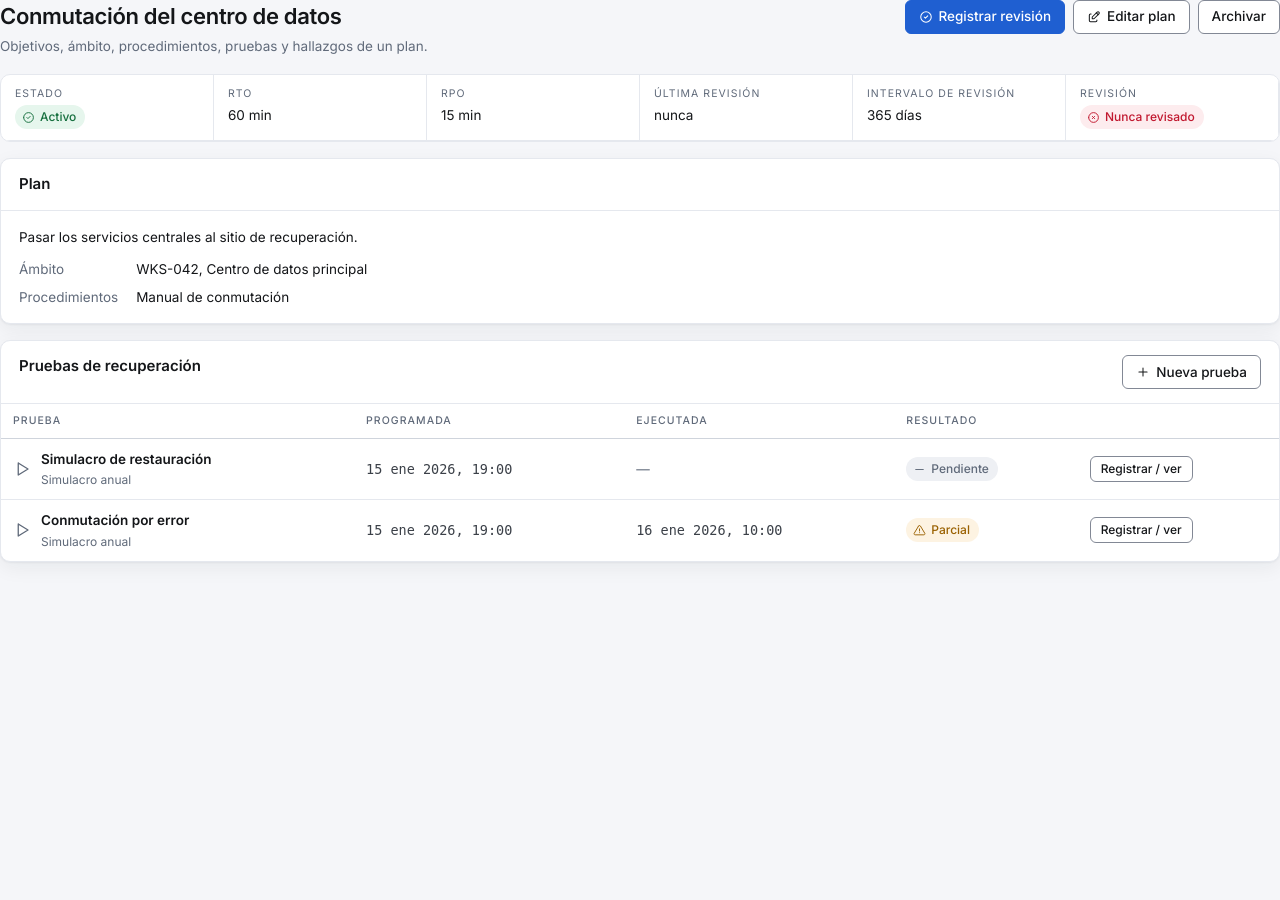
Test case: a plan's detail, in Spanish › words the New test dialog
Expected: the heading "Conmutación del centro de datos" is shown, top-left (0, 3), bottom-right (342, 29)
Click the button "Nueva prueba": (1192, 372) top-left (1122, 355), bottom-right (1261, 389)
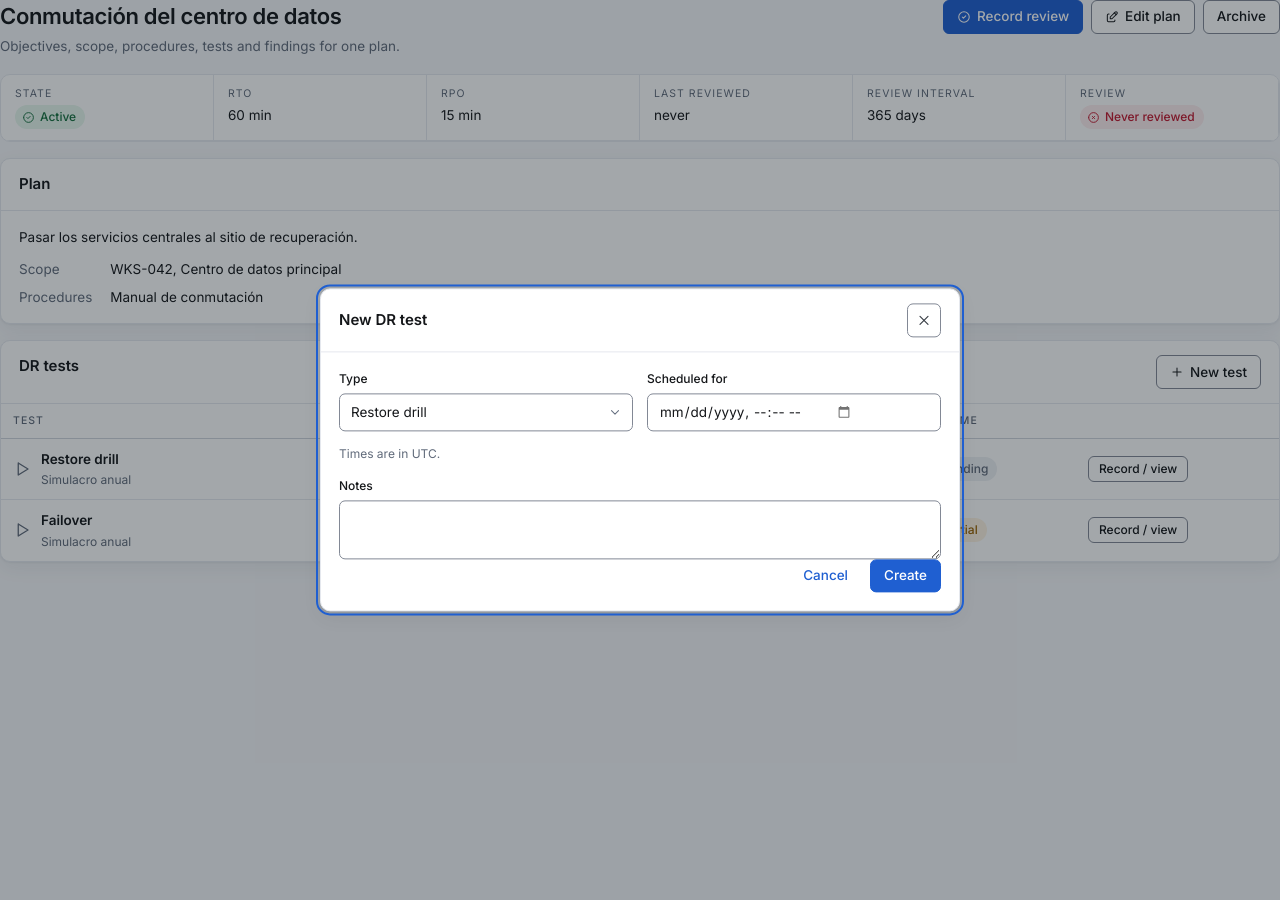
Now the text "Programada para" is shown, box top-left (647, 371), bottom-right (727, 386)
Now the text "Las horas están en UTC." is shown, box top-left (339, 447), bottom-right (440, 462)
Now the button named "Crear" is shown, box top-left (870, 559), bottom-right (941, 593)
